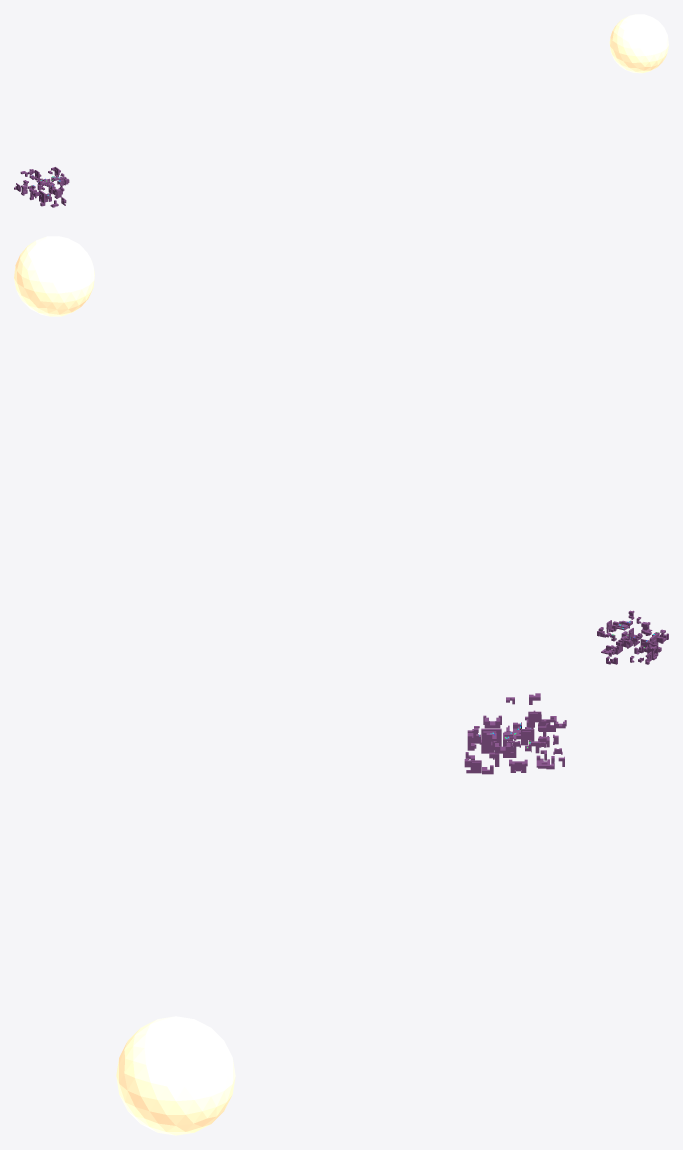
File: Moving-Geometry.glb
The picture shows the model from 3 angles, top to bottom: view 1: azimuth 30°, elevation 25°; view 2: azimuth 150°, elevation 25°; view 3: azimuth 270°, elevation 25°; orthographic projection. The views are drawn at different scales.
Parts seen in each view (by area): view 1: Sun: Visual; view 2: Sun: Visual; view 3: Sun: Visual.
Part boxes in pixels (left/top/right/bottom): Sun: Visual: left=609, top=14, right=668, bottom=73; Sun: Visual: left=14, top=236, right=94, bottom=316; Sun: Visual: left=116, top=1016, right=235, bottom=1135.
Bounding box in the file's own units: 2764 × 580 × 968.
